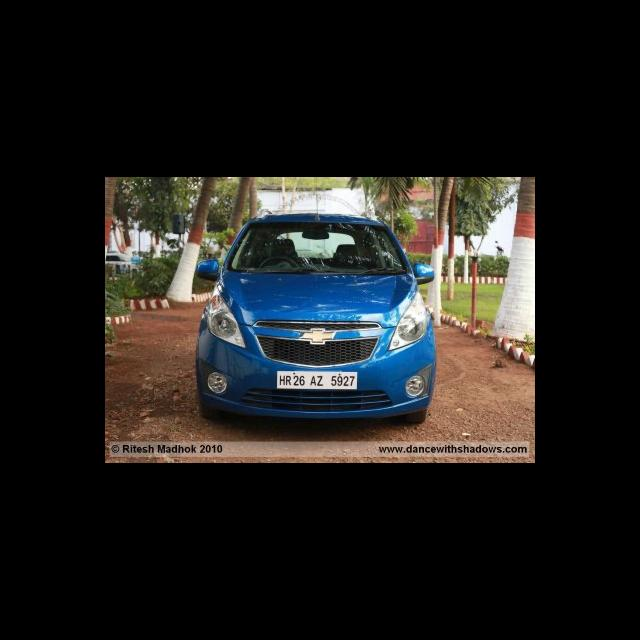Plate: (275, 370, 357, 390)
